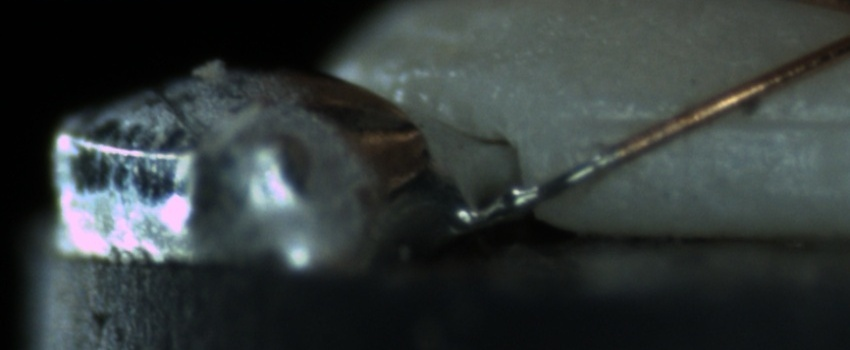DL: (562, 92, 842, 149)
TB: (489, 186, 535, 221)
TS: (457, 147, 618, 233)
TTCW: (465, 127, 654, 231)
